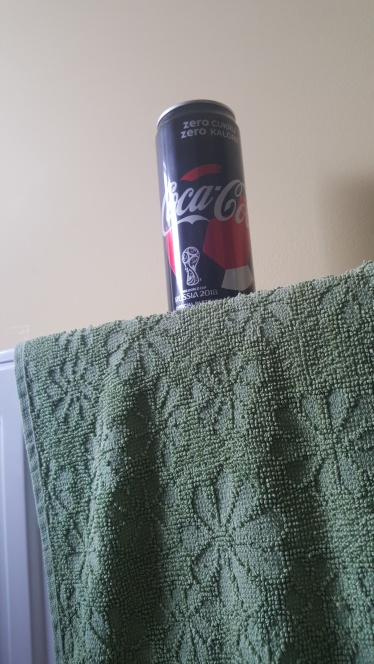colazero: (147, 85, 271, 320)
